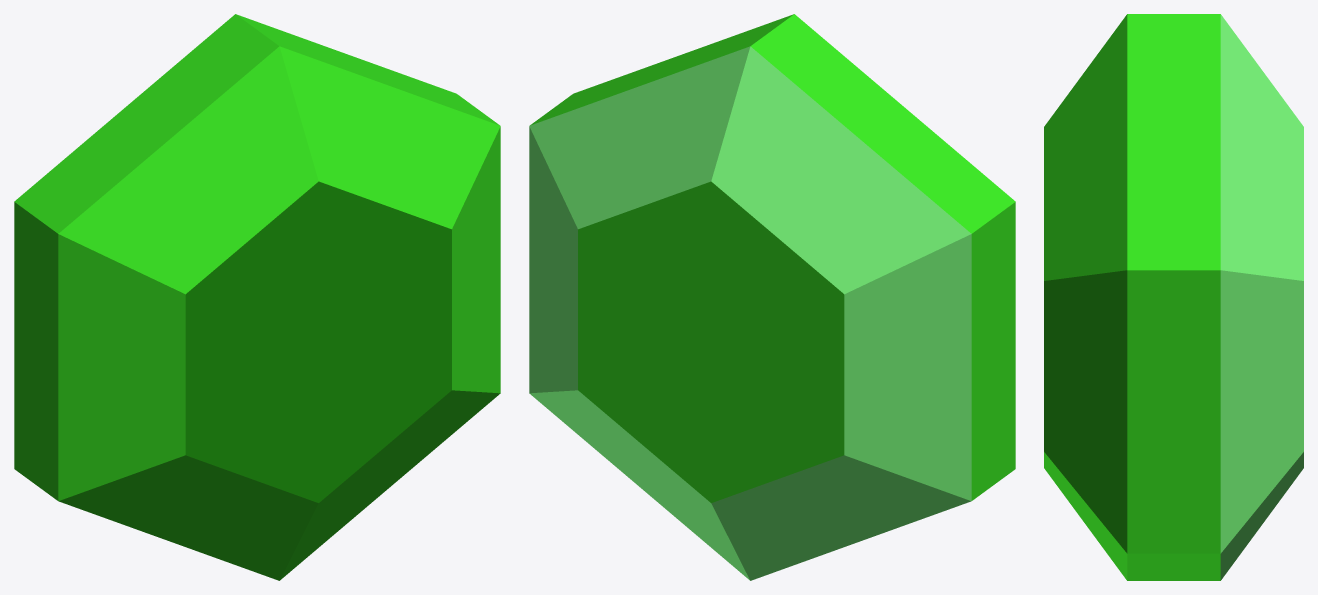
Rendered from ramp-gem-green.glb.
3 renders of one model, left to right at view 1: azimuth 30°, elevation 25°; view 2: azimuth 150°, elevation 25°; view 3: azimuth 270°, elevation 25°, orthographic. The views are drawn at different scales.
Parts seen in each view (by area): view 1: Cylinder; view 2: Cylinder; view 3: Cylinder.
Part boxes in pixels (x1,y1,x2,y2): Cylinder: (14, 14, 500, 580); Cylinder: (529, 14, 1015, 580); Cylinder: (1044, 14, 1303, 580).
Bounding box in the file's own units: 0.4033 × 0.4657 × 0.1934.
Materials: 1 (1 with a texture image).
